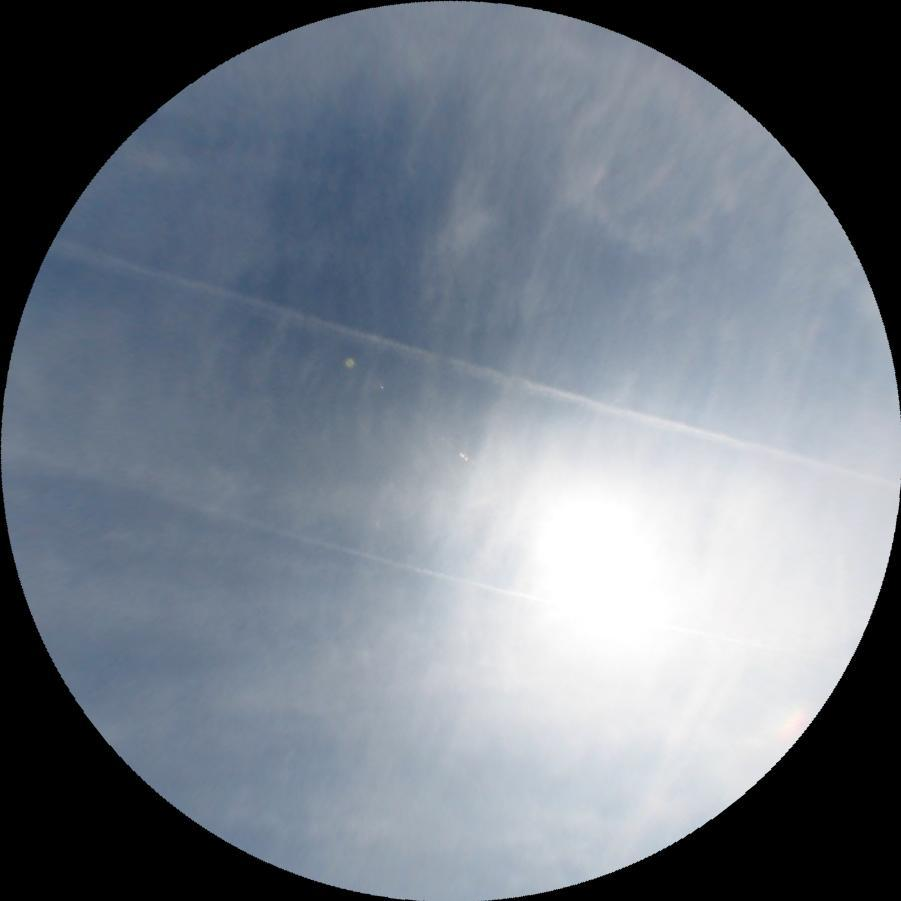contrail old: (47, 231, 900, 499), (0, 448, 845, 678)
sun: (525, 487, 671, 647)
